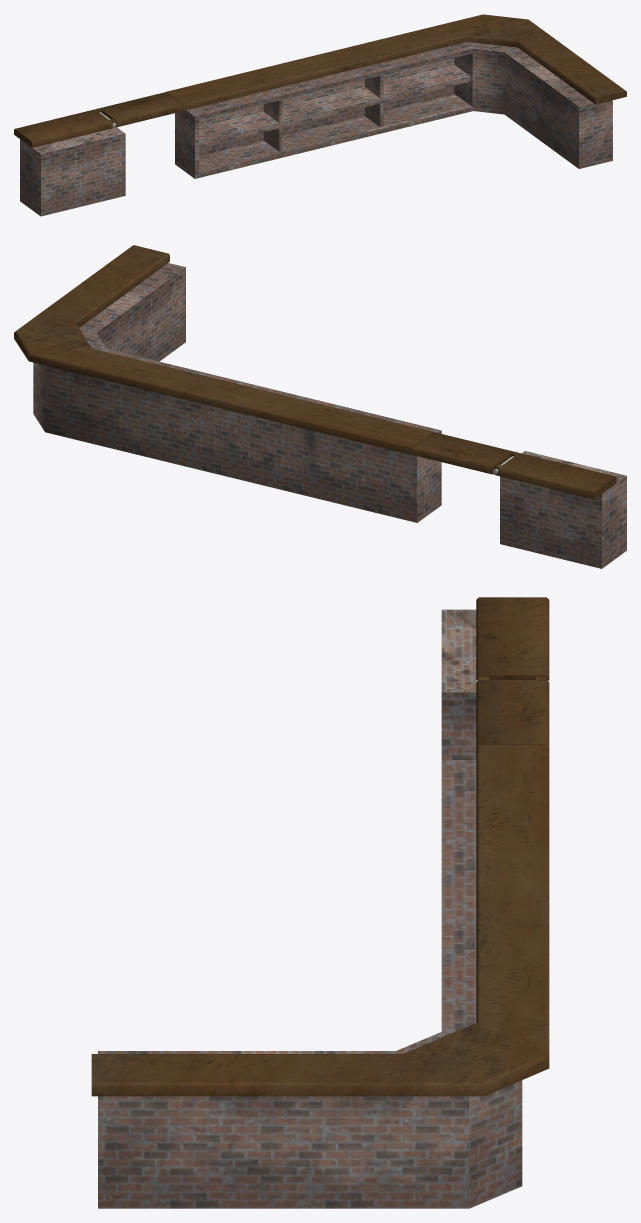
Rendered from Bar.fbx.
The picture shows the model from 3 angles, top to bottom: view 1: azimuth 30°, elevation 25°; view 2: azimuth 150°, elevation 25°; view 3: azimuth 270°, elevation 25°; orthographic projection. The views are drawn at different scales.
Parts seen in each view (by area): view 1: Bar, BarDoor; view 2: Bar, BarDoor; view 3: Bar, BarDoor.
Part boxes in pixels (<box>): Bar: <box>14,14,626,216</box>; BarDoor: <box>99,92,182,127</box>; Bar: <box>14,245,626,568</box>; BarDoor: <box>413,432,513,474</box>; Bar: <box>91,597,549,1208</box>; BarDoor: <box>476,680,549,746</box>.
Size of the model in its own units: 748 by 98.89 by 298.
